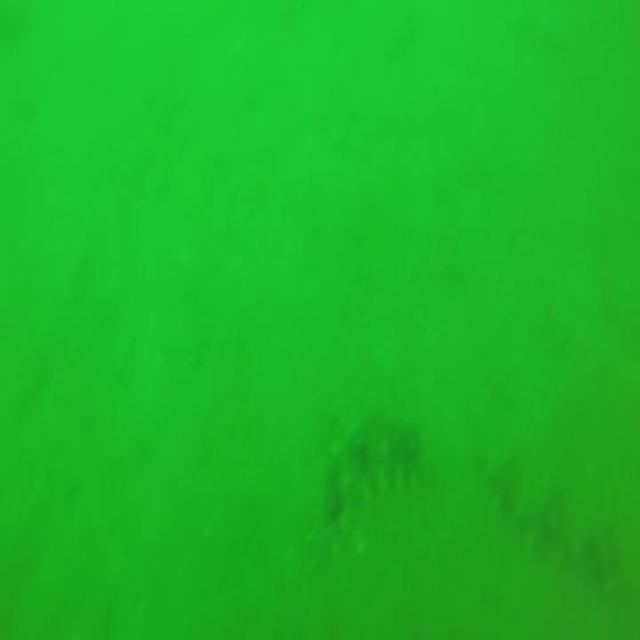holothurian: (487, 452, 626, 599), (304, 404, 418, 570)
